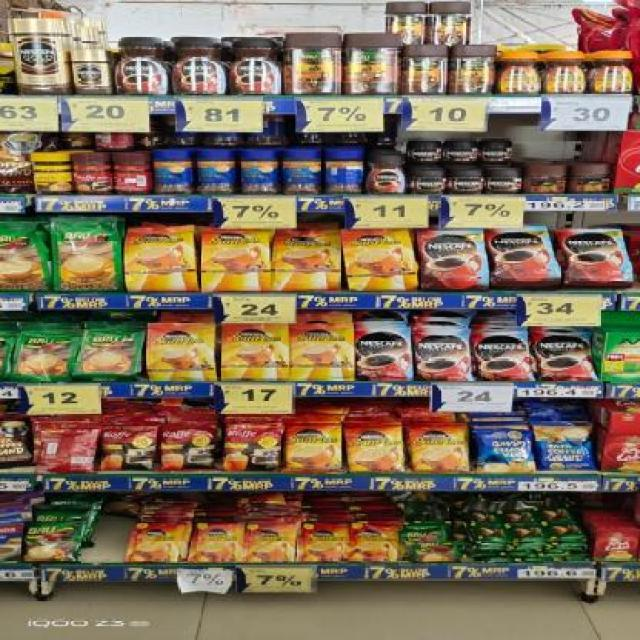Coffee: (342, 228, 416, 290), (12, 18, 70, 94), (488, 228, 560, 289), (559, 229, 633, 288), (201, 229, 270, 291), (126, 228, 194, 290), (271, 229, 338, 291), (419, 231, 487, 291), (220, 324, 288, 380), (147, 324, 213, 381), (290, 325, 353, 380), (113, 38, 169, 96), (172, 38, 228, 96), (408, 423, 468, 472), (230, 37, 281, 94), (536, 330, 593, 381), (351, 330, 409, 380), (474, 331, 530, 380), (412, 332, 470, 379), (346, 425, 402, 473), (286, 422, 342, 469), (589, 51, 637, 95), (495, 51, 542, 95), (543, 50, 588, 93), (72, 50, 111, 94), (367, 154, 408, 195), (410, 169, 448, 194), (445, 140, 480, 164), (486, 170, 523, 192), (408, 140, 440, 163), (452, 170, 485, 192), (482, 139, 513, 161)
